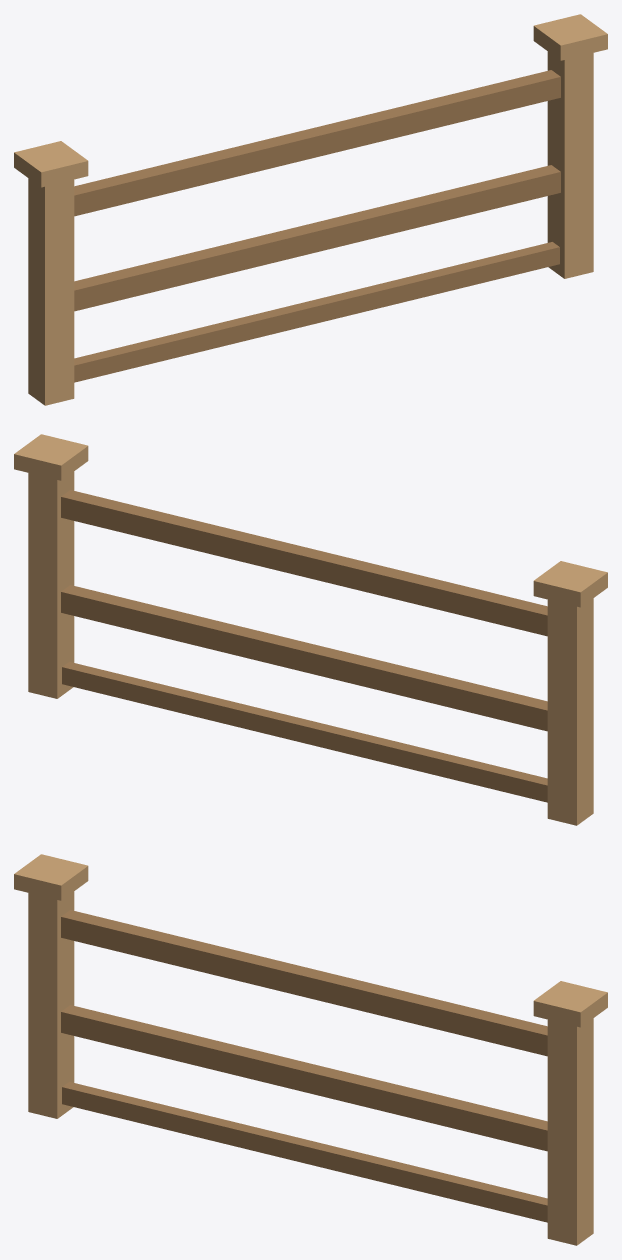
File: lists-fence-panel.glb
3 renders of one model, top to bottom at view 1: azimuth 30°, elevation 25°; view 2: azimuth 150°, elevation 25°; view 3: azimuth 330°, elevation 25°, orthographic.
Visible parts, largest first — view 1: lists-fence-panel; view 2: lists-fence-panel; view 3: lists-fence-panel.
Boxes of the visible parts, box(x1,y1,x2,y2) form: lists-fence-panel: box(14, 14, 607, 405); lists-fence-panel: box(14, 434, 607, 825); lists-fence-panel: box(14, 854, 607, 1245).
Bounding box in the file's own units: 3.12 × 1.26 × 0.2601.
